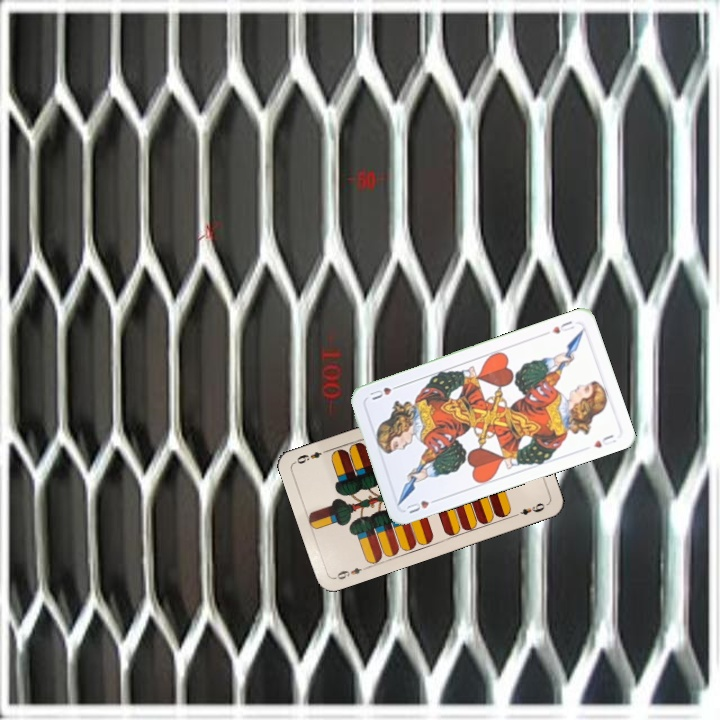E9: (331, 562, 371, 582)
HU: (403, 494, 442, 516), (548, 317, 577, 336)
